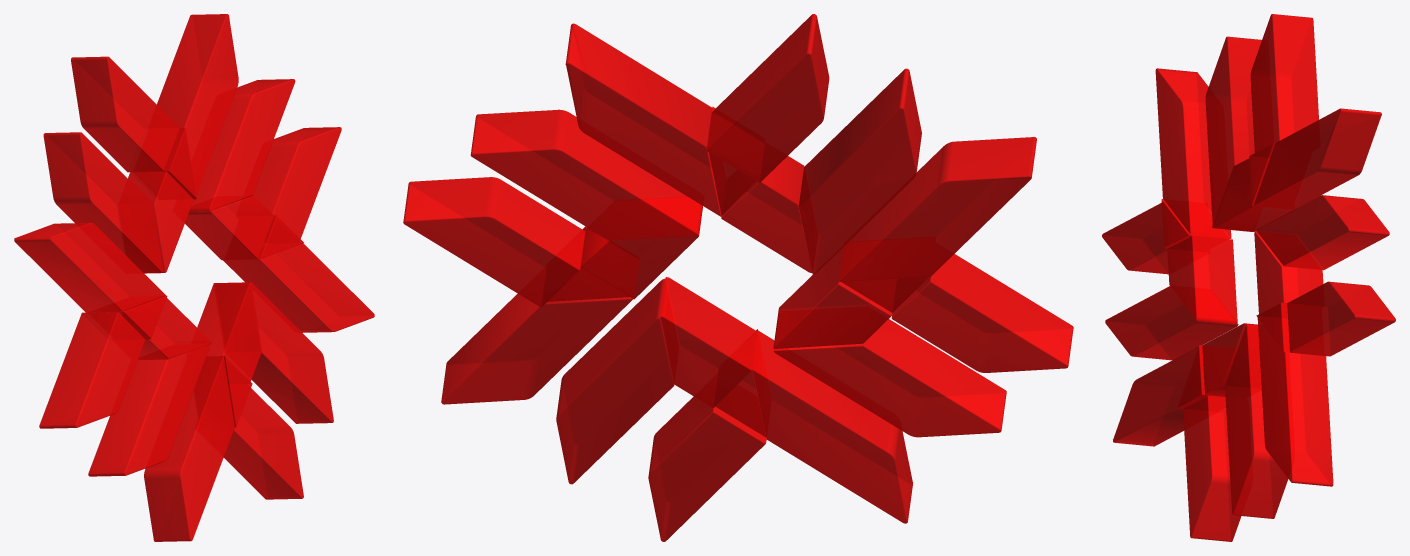
The model's file is Fanshawe_3D_Northstar.gltf.
3 views of the same model, side by side, from view 1: azimuth 30°, elevation 25°; view 2: azimuth 150°, elevation 25°; view 3: azimuth 270°, elevation 25° (orthographic). The views are drawn at different scales.
Parts seen in each view (by area): view 1: Fanshawe North Star.Top, Fanshawe North Star.Left, Fanshawe North Star.Bottom, Fanshawe North Star.Right; view 2: Fanshawe North Star.Left, Fanshawe North Star.Right, Fanshawe North Star.Top, Fanshawe North Star.Bottom; view 3: Fanshawe North Star.Right, Fanshawe North Star.Top, Fanshawe North Star.Left, Fanshawe North Star.Bottom.
Boxes of the visible parts, box(x1,y1,x2,y2) form: Fanshawe North Star.Top: box(43, 14, 238, 273); Fanshawe North Star.Left: box(14, 222, 211, 476); Fanshawe North Star.Bottom: box(144, 282, 333, 541); Fanshawe North Star.Right: box(185, 79, 374, 332); Fanshawe North Star.Left: box(773, 137, 1073, 437); Fanshawe North Star.Right: box(403, 109, 702, 404); Fanshawe North Star.Top: box(565, 14, 921, 274); Fanshawe North Star.Bottom: box(556, 277, 913, 541); Fanshawe North Star.Right: box(1254, 195, 1395, 486); Fanshawe North Star.Top: box(1205, 14, 1381, 231); Fanshawe North Star.Left: box(1102, 68, 1238, 360); Fanshawe North Star.Bottom: box(1113, 323, 1288, 541).
Bounding box in the file's own units: 0.8407 × 0.9027 × 0.5224.
